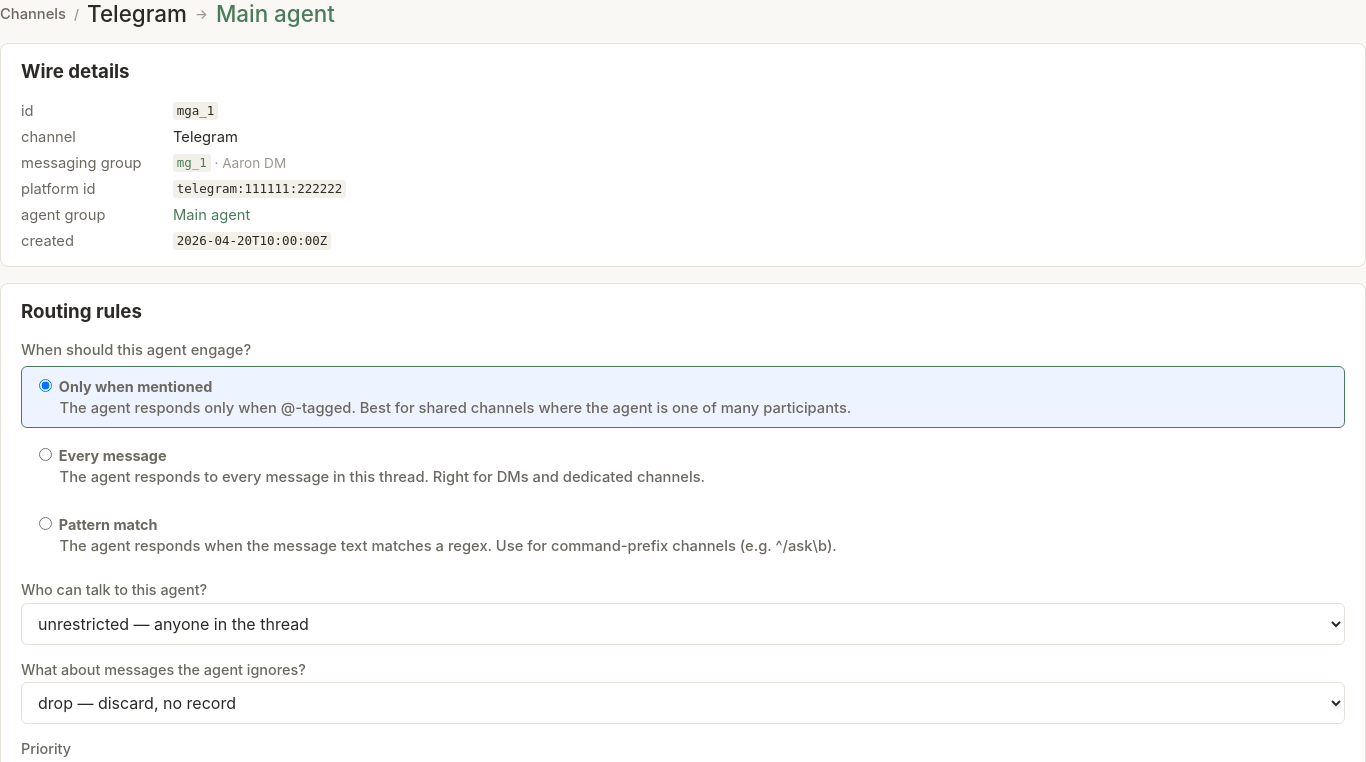
ChannelWireDetail — save › surfaces an error banner when the PATCH fails
expect the radio button named "Only when mentioned" is checked: met, box [39,379,52,392]
Step 1. Click the radio button labelled "Every message" → click(46, 454), box [39,448,52,461]
(page scrolled)
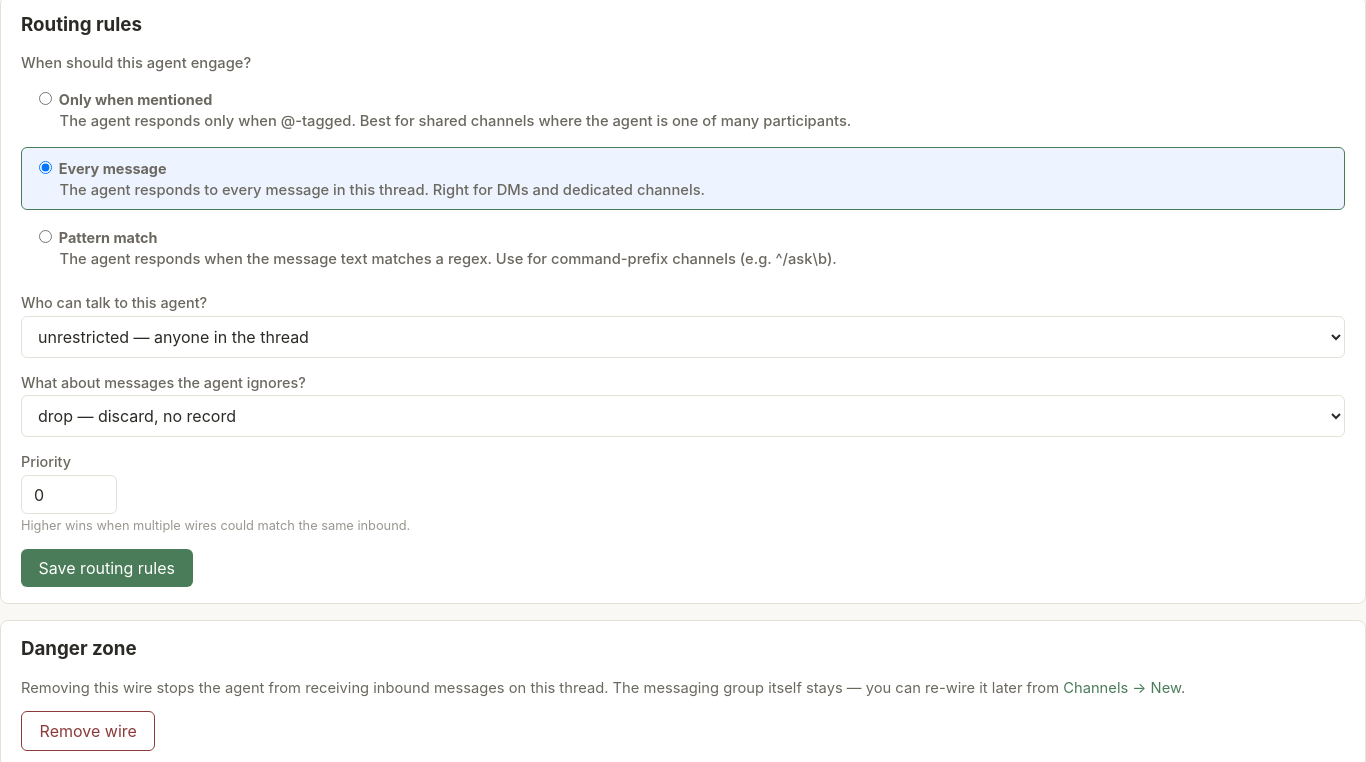
Step 2. Click the button "Save routing rules" → click(107, 568), box [21,549,192,587]
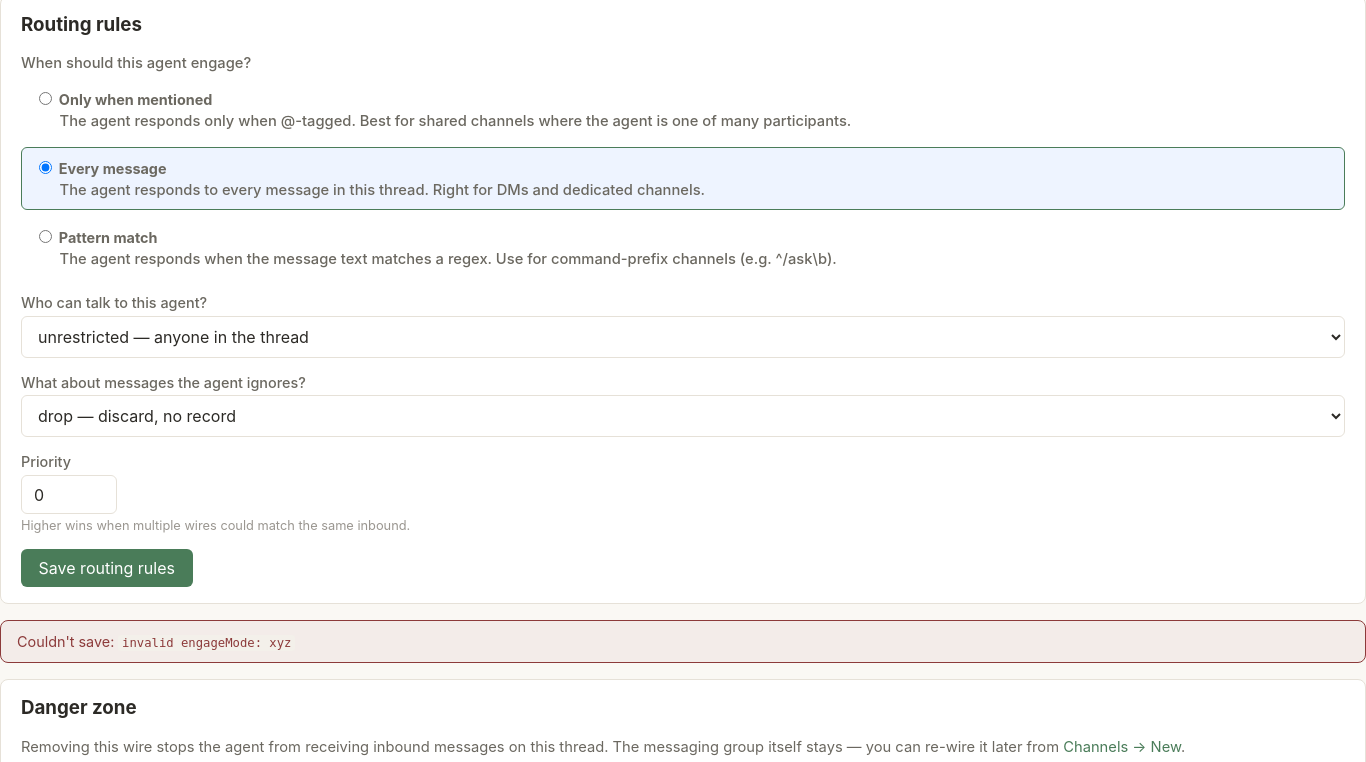
expect the text "Couldn't save: invalid engageMode: xyz" is shown: met, box [0,620,1365,663]
expect the text "invalid engageMode: xyz" is shown: met, box [118,635,295,651]
